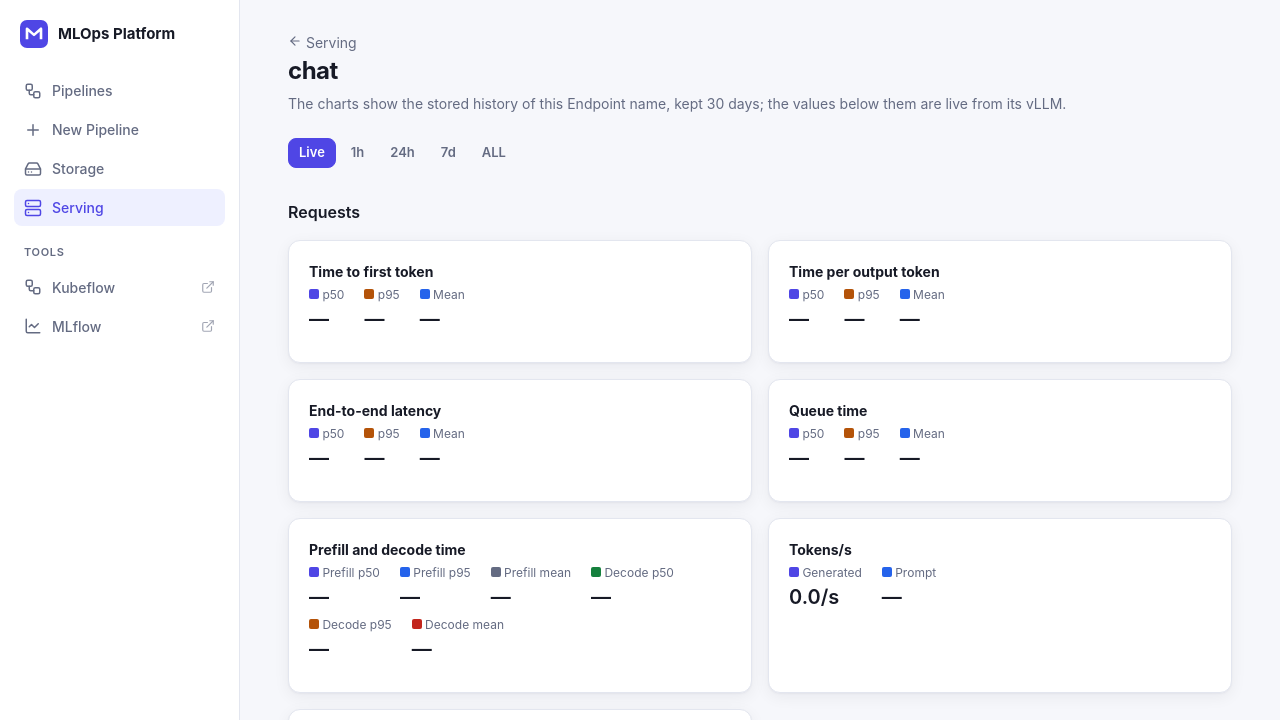
Test: the Requests subsection asks for the picked timespan and says when it is empty
Click the button "7d" at (448, 153), box [430,138,467,168]
(page scrolled)
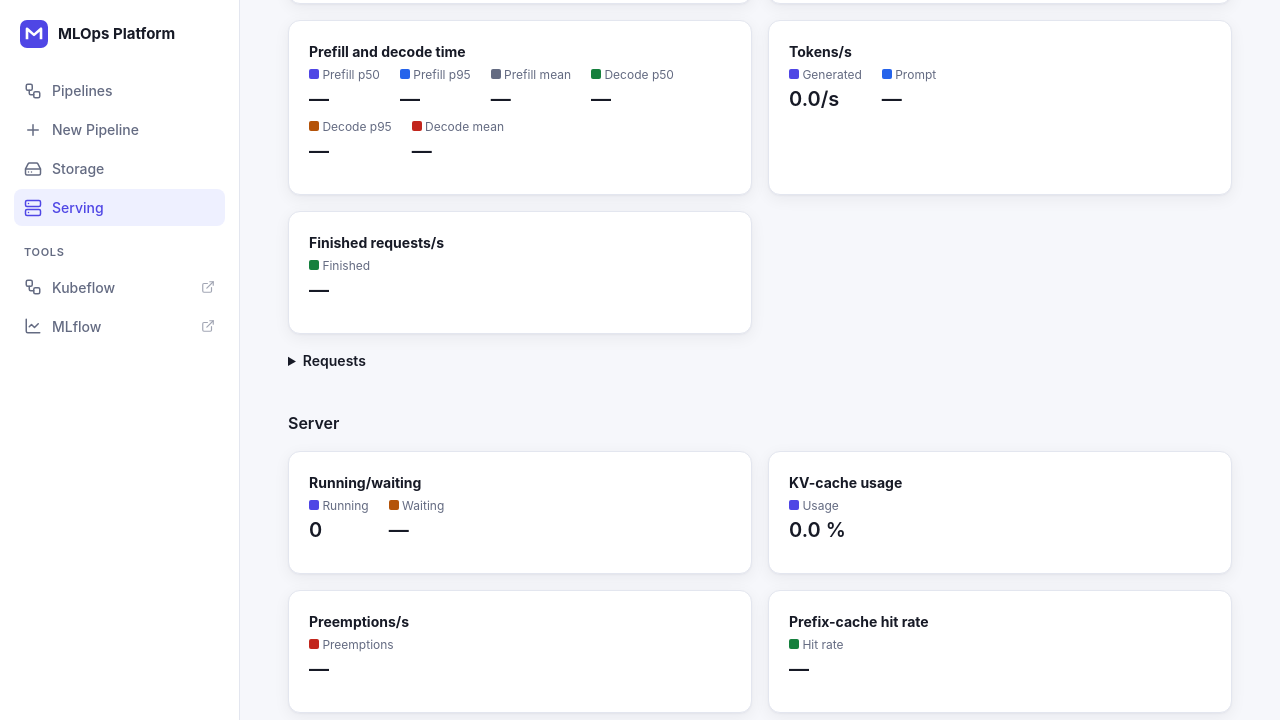
Click the heading "Requests" at (334, 360), box [303,352,366,368]
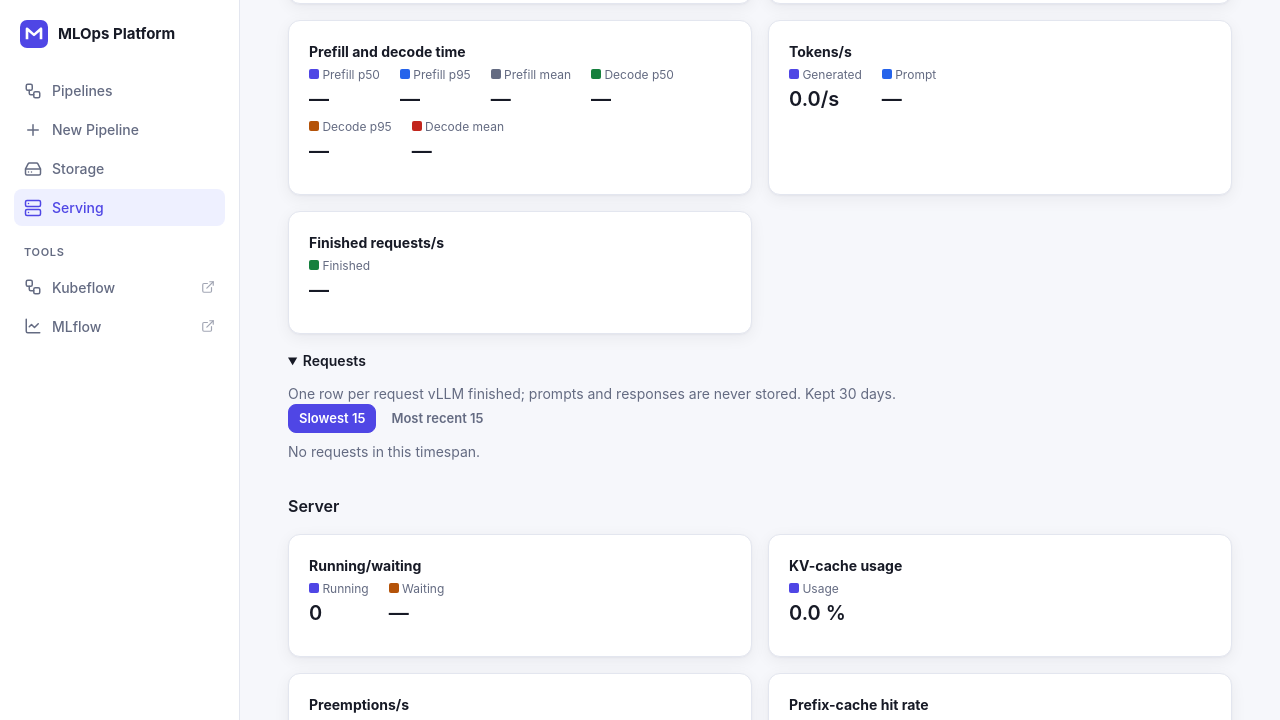
Check: the text "No requests in this timespan." is shown, box [288,443,480,460]
